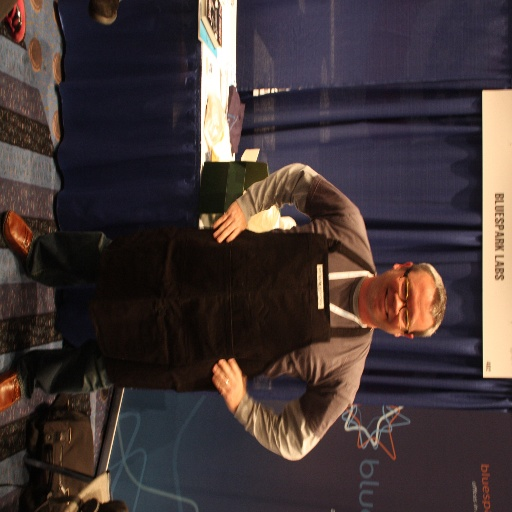hand: (214, 358, 253, 415), (212, 201, 248, 247)
